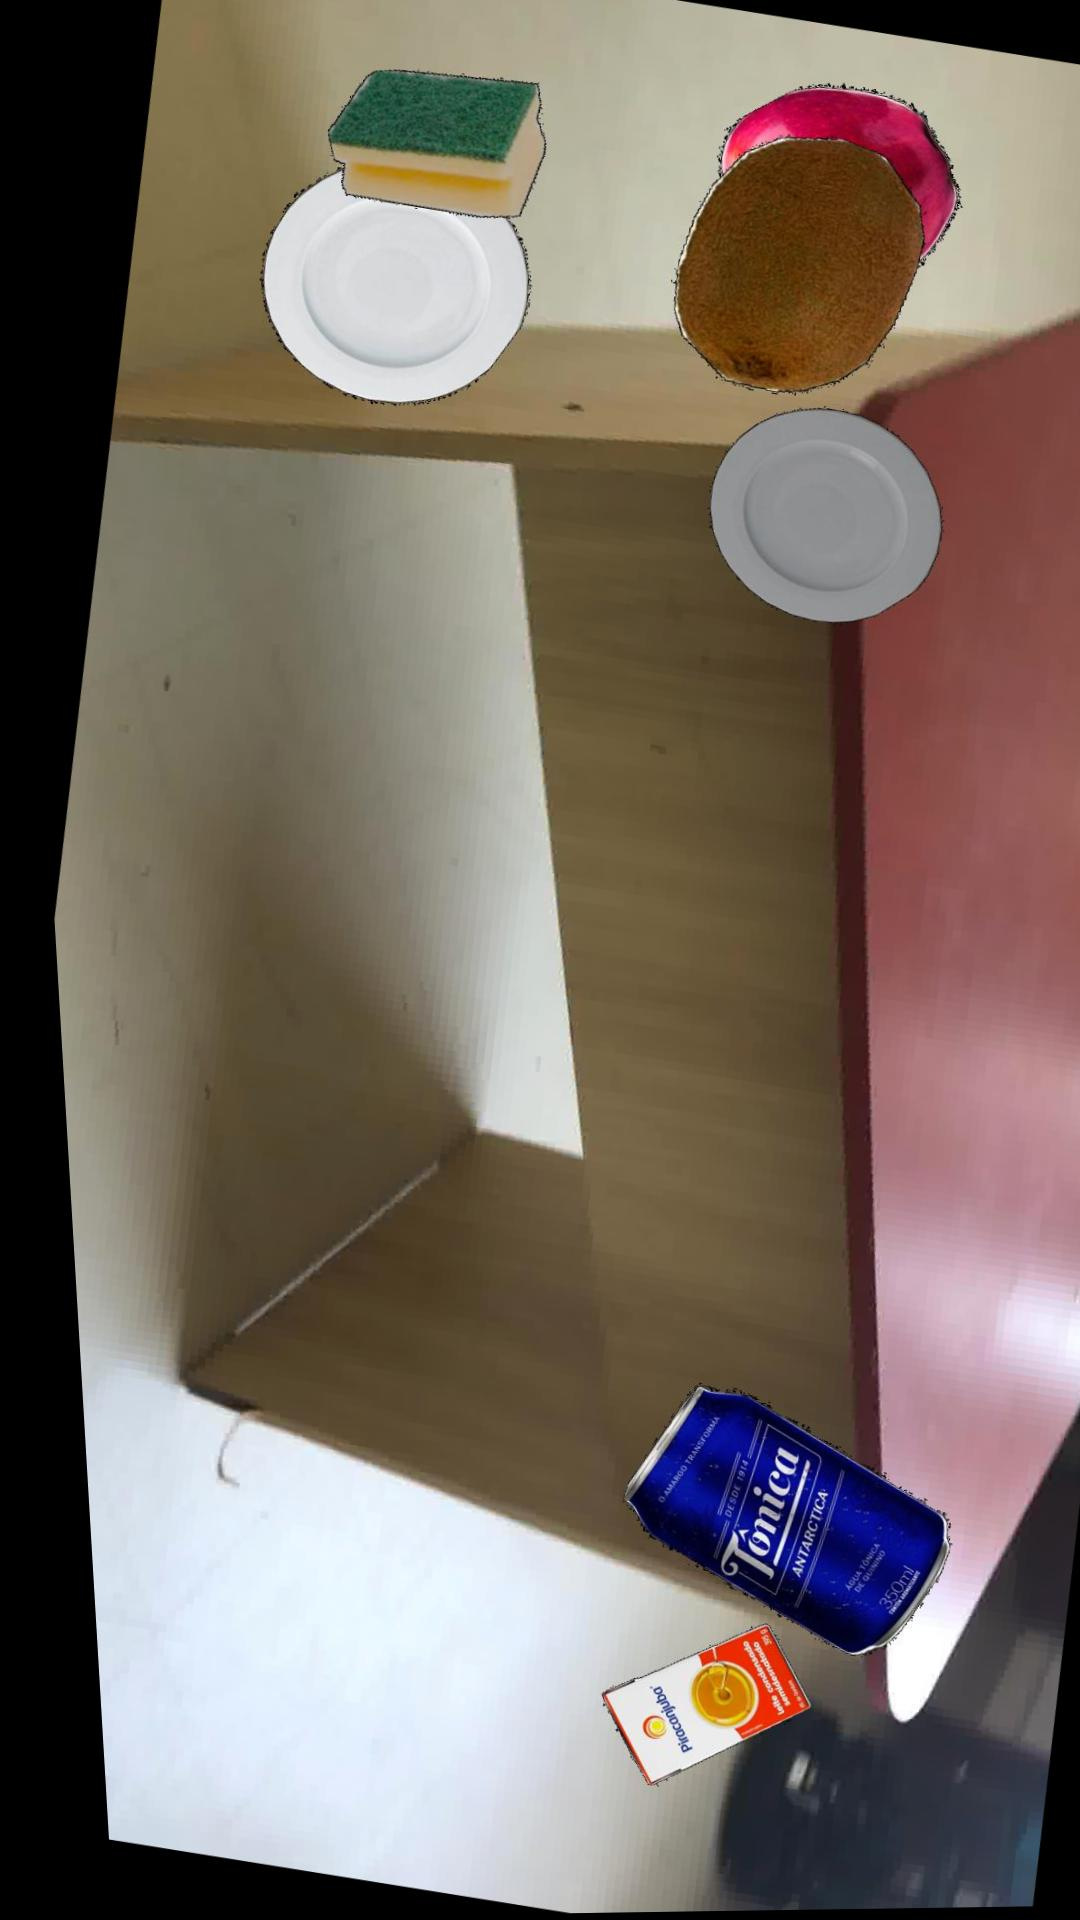apple: (713, 86, 956, 264)
kiwi: (667, 138, 920, 396)
plate: (253, 170, 525, 405), (700, 410, 934, 626)
sponge: (323, 71, 542, 220)
tonic: (601, 1389, 930, 1659)
